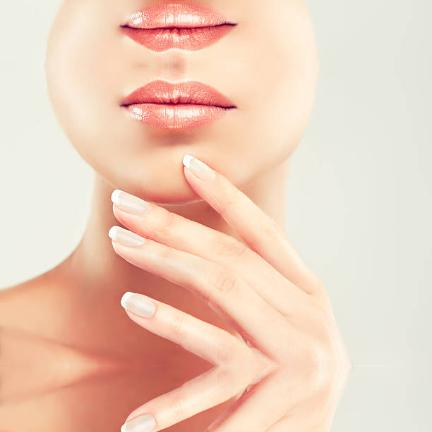Nail: (111, 190, 151, 215), (121, 292, 157, 318), (182, 155, 215, 180), (108, 226, 146, 247), (121, 414, 157, 432)
